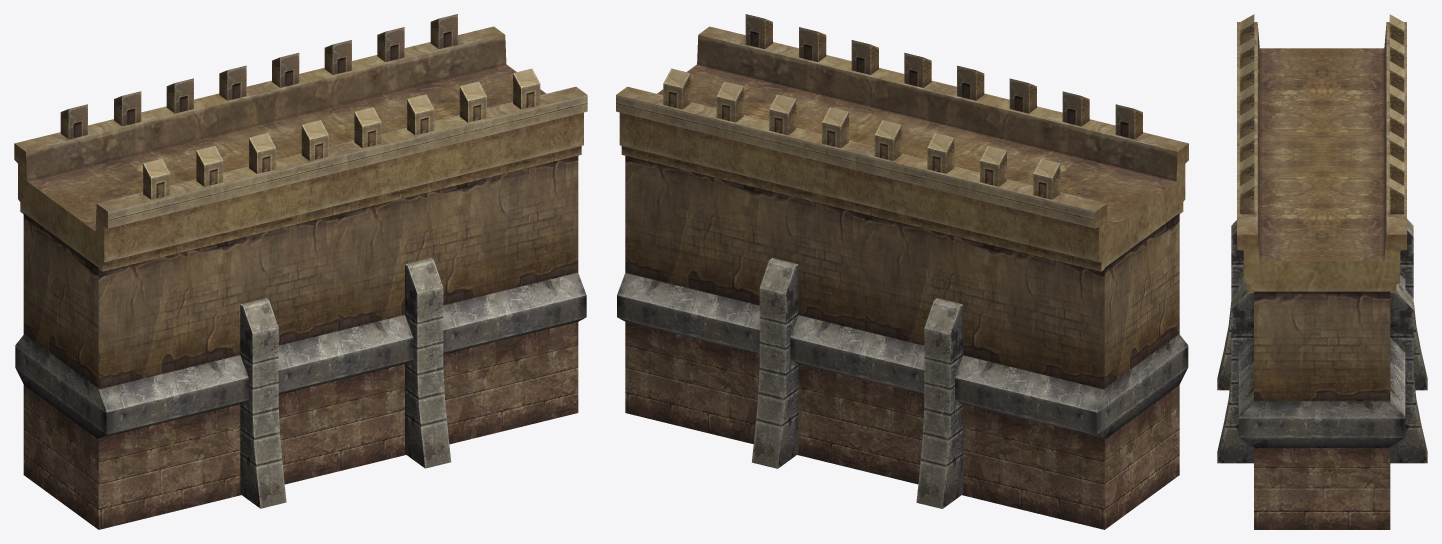
The model's file is SC_tamalagebi_05.FBX.
3 views of the same model, side by side, from view 1: azimuth 30°, elevation 25°; view 2: azimuth 150°, elevation 25°; view 3: azimuth 270°, elevation 25° (orthographic). The views are drawn at different scales.
Visible parts, largest first — view 1: SC_tamalagebi_05; view 2: SC_tamalagebi_05; view 3: SC_tamalagebi_05.
Part boxes in pixels (x1=…): SC_tamalagebi_05: x1=14, y1=14, x2=587, y2=529; SC_tamalagebi_05: x1=616, y1=14, x2=1188, y2=529; SC_tamalagebi_05: x1=1217, y1=14, x2=1427, y2=529.
Bounding box in the file's own units: 1017 × 720 × 425.
